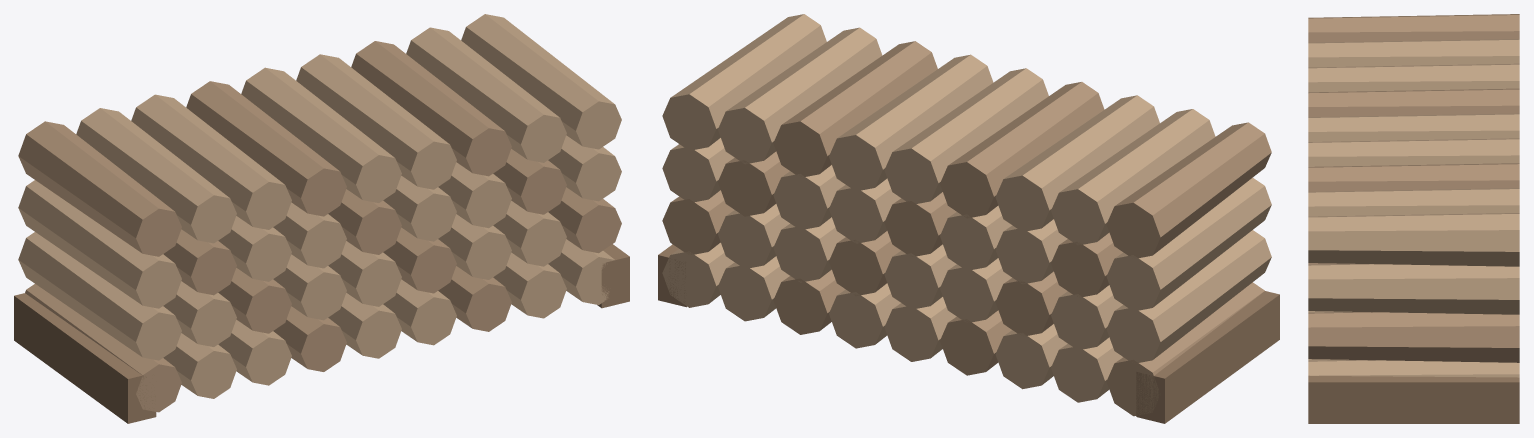
File: woodpile_v1.glb
3 views of the same model, side by side, from view 1: azimuth 30°, elevation 25°; view 2: azimuth 150°, elevation 25°; view 3: azimuth 270°, elevation 25° (orthographic). The views are drawn at different scales.
Parts seen in each view (by area): view 1: Log.3.0, Log.3.4, Log.3.1, Log.3.3, Log.3.5, Log.3.6, Log.3.7, Log.3.2, Log.3.8, Log.1.0, Log.2.0, Skid.-1 (+26 smaller); view 2: Log.3.0, Log.3.3, Log.3.7, Log.3.1, Log.3.2, Log.3.5, Log.3.6, Log.3.4, Log.3.8, Log.2.0, Log.1.0, Skid.-1 (+26 smaller); view 3: Log.3.8, Log.1.8, Log.2.8, Skid.1, Log.3.5, Log.3.7, Log.3.0, Log.3.6, Log.3.4, Log.3.1, Log.3.3, Log.3.2 (+1 smaller).
Boxes of the visible parts, x1,y1,x2,y2 form: Log.3.0: (18,121,181,256); Log.3.4: (241,67,401,202); Log.3.1: (76,108,236,243); Log.3.3: (186,81,346,216); Log.3.5: (296,54,456,189); Log.3.6: (351,41,511,176); Log.3.7: (406,27,566,162); Log.3.2: (131,94,291,229); Log.3.8: (461,14,621,149); Log.1.0: (18,232,181,360); Log.2.0: (18,180,181,308); Skid.-1: (14,293,156,423); Log.3.0: (1106,122,1271,258); Log.3.3: (940,82,1104,218); Log.3.7: (718,27,882,164); Log.3.1: (1051,109,1215,245); Log.3.2: (995,95,1159,231); Log.3.5: (829,54,993,191); Log.3.6: (773,41,937,176); Log.3.4: (884,68,1048,203); Log.3.8: (662,14,826,149); Log.2.0: (1106,177,1271,311); Log.1.0: (1106,230,1271,363); Skid.-1: (1136,291,1279,423); Log.3.8: (1308,213,1519,266); Log.1.8: (1308,312,1519,362); Log.2.8: (1308,264,1519,314); Skid.1: (1308,375,1519,423); Log.3.5: (1308,138,1519,166); Log.3.7: (1308,188,1519,216); Log.3.0: (1308,14,1519,42); Log.3.6: (1308,163,1519,191); Log.3.4: (1308,113,1519,141); Log.3.1: (1308,39,1519,67); Log.3.3: (1308,88,1519,117); Log.3.2: (1308,63,1519,92).
Size of the model in its own units: 1.78 by 0.7173 by 0.7.
